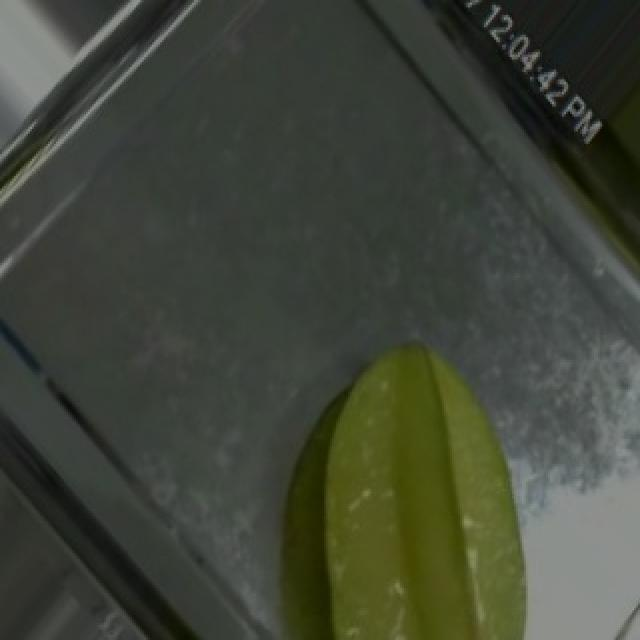fruit: (262, 300, 606, 640)
